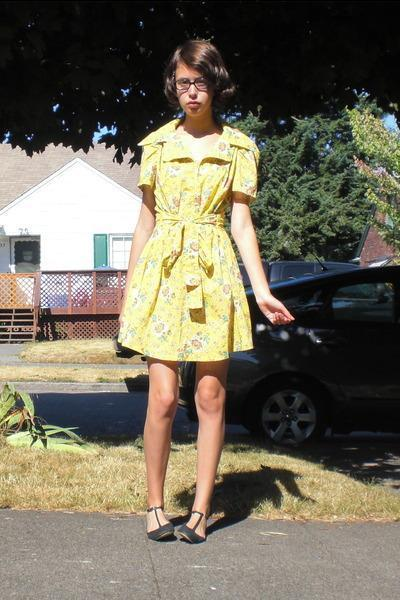dress: (118, 119, 259, 371)
shoe: (137, 510, 214, 543)
